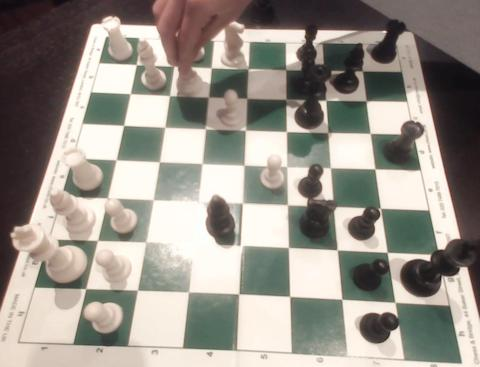xcorner: (161, 87, 176, 102), (166, 58, 180, 73), (321, 92, 335, 107), (280, 91, 295, 105), (365, 126, 380, 140), (281, 123, 295, 138), (370, 162, 385, 176), (238, 157, 252, 172), (151, 154, 165, 169), (98, 192, 113, 206), (283, 243, 298, 257), (284, 292, 299, 306), (180, 288, 195, 302), (129, 285, 143, 300), (357, 64, 371, 78), (318, 63, 332, 77), (280, 62, 294, 76), (242, 61, 256, 75), (204, 60, 218, 74), (129, 57, 143, 71), (361, 94, 375, 108), (241, 90, 255, 104), (201, 89, 215, 103), (122, 86, 136, 100), (323, 125, 337, 139), (239, 122, 253, 136), (198, 121, 212, 135), (156, 119, 170, 133), (115, 118, 129, 132), (326, 161, 340, 175), (282, 159, 296, 173), (194, 156, 208, 170), (107, 153, 121, 167), (376, 202, 390, 216), (329, 200, 343, 214), (283, 199, 297, 213), (236, 197, 250, 211), (190, 195, 204, 209), (144, 193, 158, 207), (383, 247, 397, 261), (333, 245, 347, 259), (234, 241, 248, 255), (186, 239, 200, 253), (137, 237, 151, 251), (89, 235, 103, 249), (390, 297, 404, 311), (337, 295, 351, 309), (232, 290, 246, 304), (78, 283, 92, 297)
